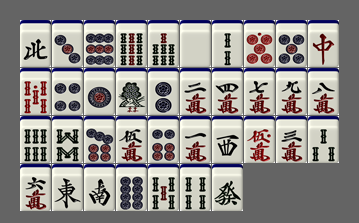0m: (244, 116, 275, 163)
0p: (244, 20, 275, 67)
0s: (20, 68, 51, 115)
1m: (180, 116, 211, 163)
1p: (84, 68, 115, 115)
1s: (116, 68, 147, 115)
1z: (52, 164, 83, 211)
2m: (180, 68, 211, 115)
2p: (148, 68, 179, 115)
2s: (212, 20, 243, 67)
2z: (84, 164, 115, 211)
3m: (276, 116, 307, 163)
3p: (52, 20, 83, 67)
3s: (308, 116, 339, 163)
3z: (212, 116, 243, 163)
4m: (212, 68, 243, 115)
4p: (52, 68, 83, 115)
4s: (180, 164, 211, 211)
4z: (20, 20, 51, 67)
5m: (116, 116, 147, 163)
5p: (276, 20, 307, 67)
5s: (148, 164, 179, 211)
5z: (180, 20, 211, 67)
6m: (20, 164, 51, 211)
6p: (148, 116, 179, 163)
6s: (20, 116, 51, 163)
6z: (212, 164, 243, 211)
7m: (244, 68, 275, 115)
7p: (84, 116, 115, 163)
7s: (148, 20, 179, 67)
7z: (308, 20, 339, 67)
8m: (308, 68, 339, 115)
8p: (116, 164, 147, 211)
8s: (52, 116, 83, 163)
9m: (276, 68, 307, 115)
9p: (84, 20, 115, 67)
9s: (116, 20, 147, 67)
